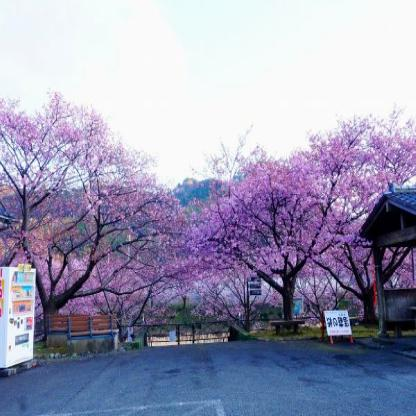KawazuSakura: (34, 165, 198, 320), (218, 132, 334, 323), (0, 93, 122, 262), (326, 91, 416, 299), (1, 263, 37, 373), (302, 279, 336, 323)
